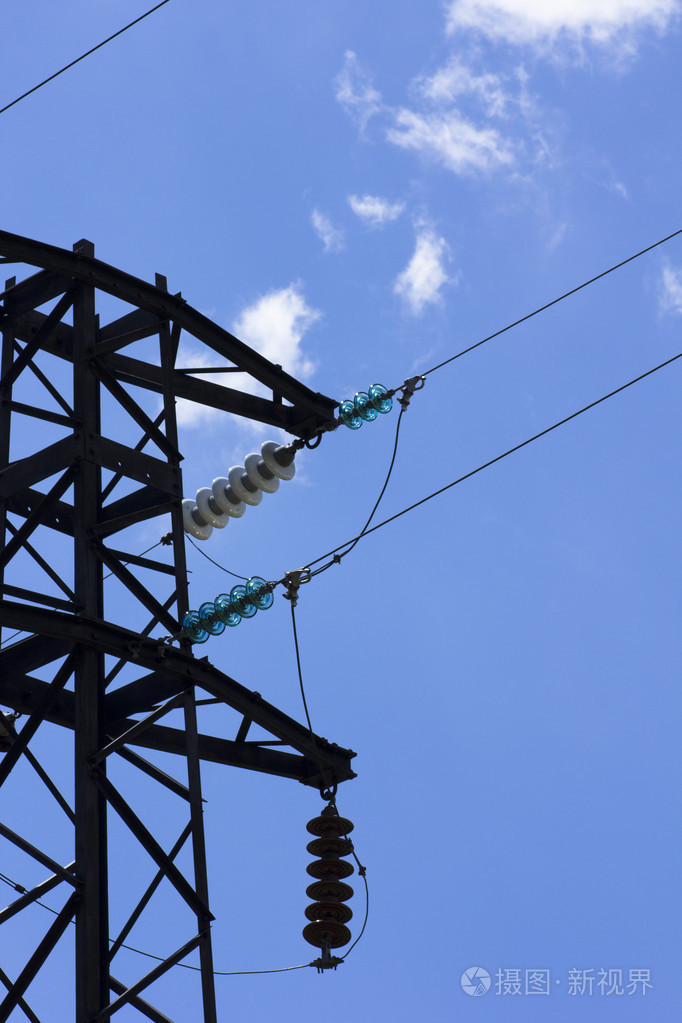insulator: (179, 443, 294, 541), (304, 814, 360, 950), (186, 578, 279, 645), (339, 383, 396, 430)
